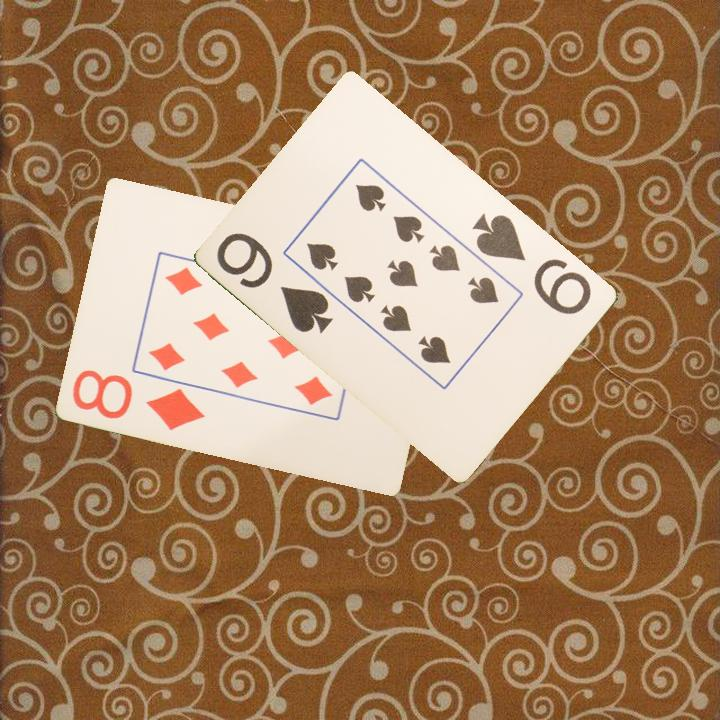8d: (69, 365, 209, 433)
9s: (469, 209, 595, 318), (213, 228, 337, 337)
